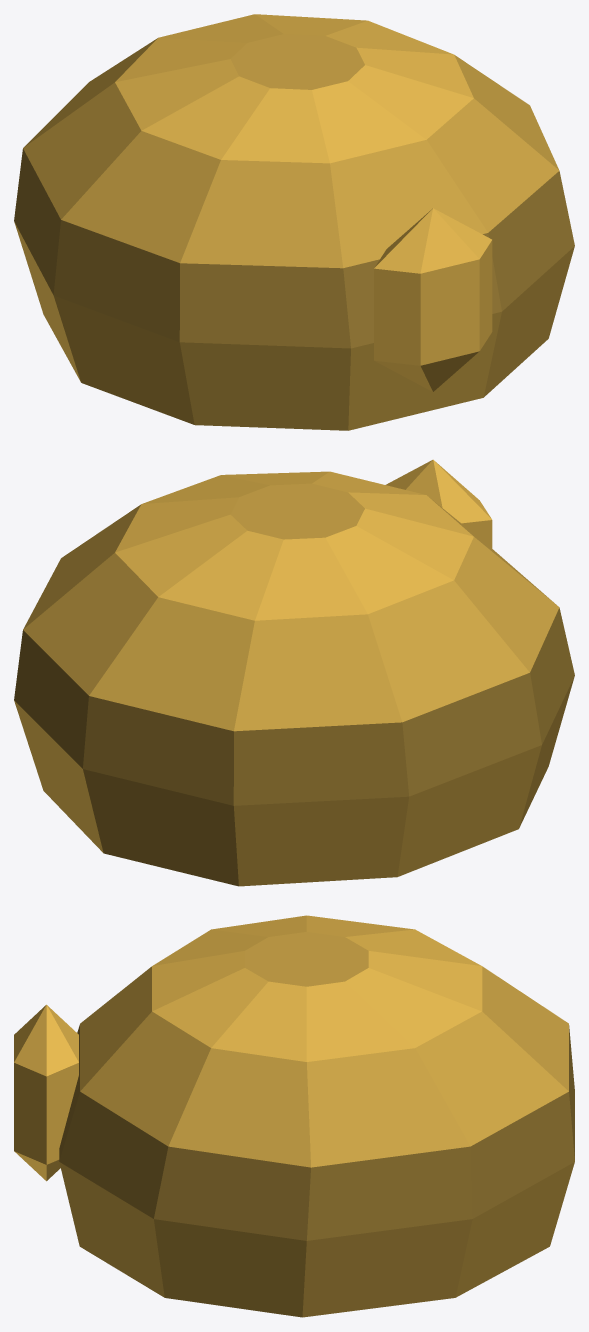
The model's file is turban.glb.
The picture shows the model from 3 angles, top to bottom: view 1: azimuth 30°, elevation 25°; view 2: azimuth 150°, elevation 25°; view 3: azimuth 270°, elevation 25°; orthographic projection. The views are drawn at different scales.
Parts seen in each view (by area): view 1: turban; view 2: turban; view 3: turban.
Part boxes in pixels (<box>): turban: <box>14,14,574,430</box>; turban: <box>14,459,574,886</box>; turban: <box>14,915,574,1317</box>.
Size of the model in its own units: 2.5 by 1.3 by 2.59.
Materials: 1 (1 with a texture image).
